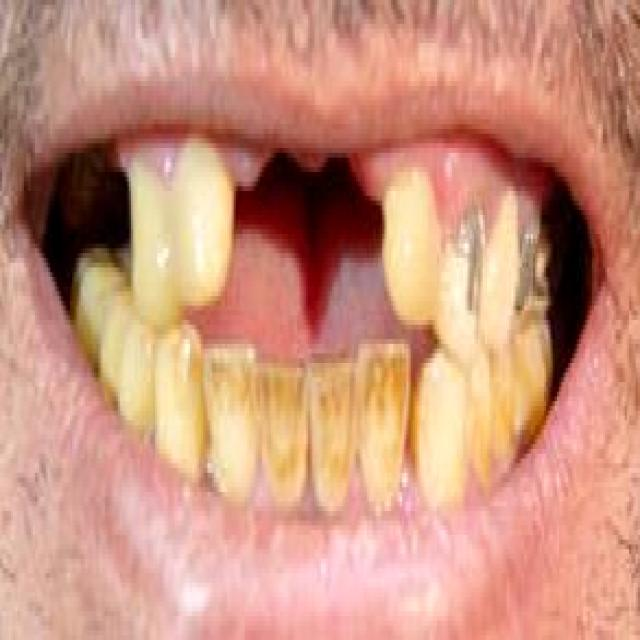cariess: (446, 205, 485, 320), (515, 210, 537, 306)
hypodontia: (209, 142, 410, 328)
tooth-discoloration: (203, 339, 540, 506)
